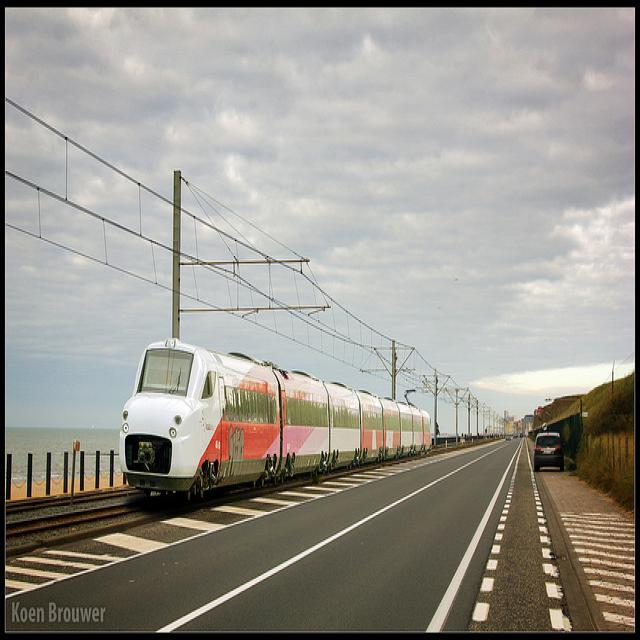Vehicle: (534, 432, 565, 472), (505, 434, 512, 440), (523, 433, 526, 438), (520, 433, 523, 437)
